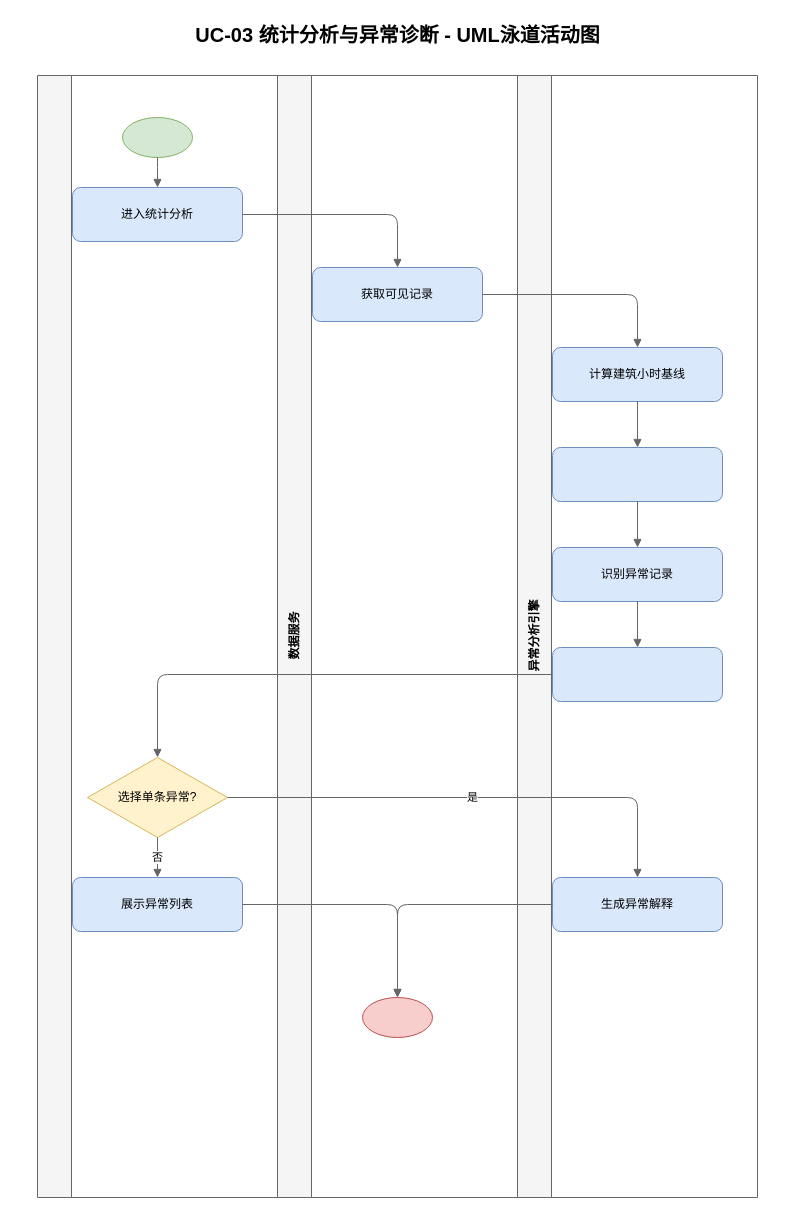
Some shapes in this 794 by 1215 pixel diagram are drawn without their labels. Here are the shapes that lost their labels. From the top down, the box of each, then its label:
(122, 116, 192, 158): 开始
(552, 446, 722, 502): 生成汇总和对比
(36, 74, 278, 1198): 管理员/AI客户端
(552, 646, 722, 702): 计算风险分和SLA
(362, 996, 432, 1038): 结束
